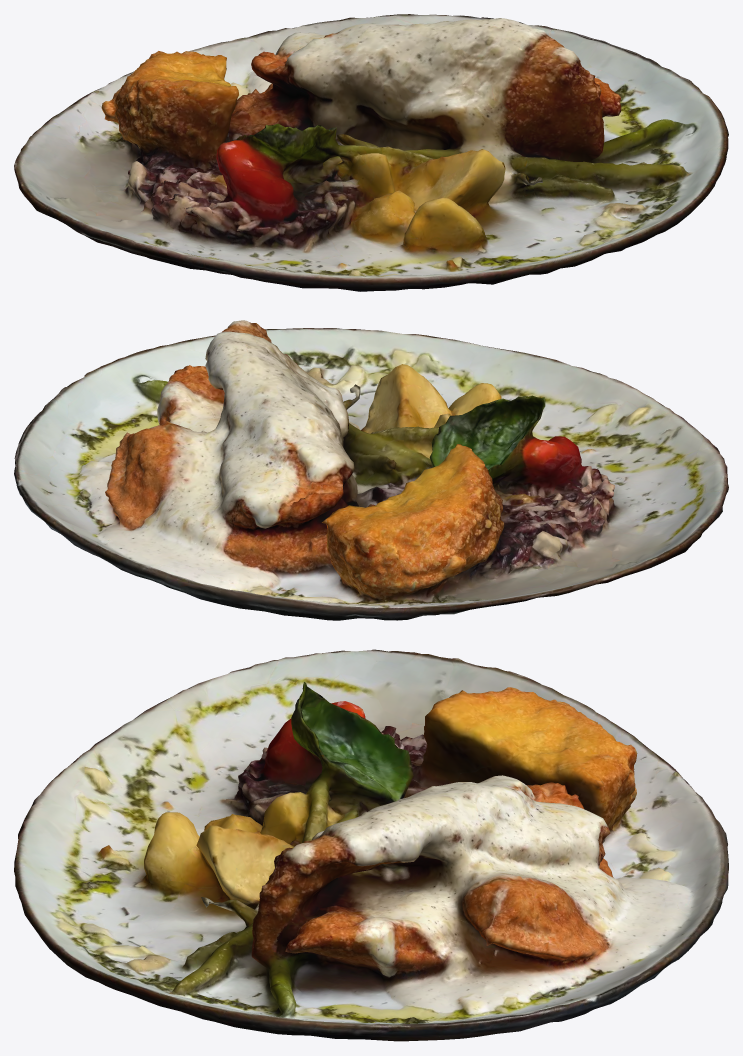
Rendered from AR-Code-1761838630115.compressed.glb.
3 views of the same model, one above another, from view 1: azimuth 30°, elevation 25°; view 2: azimuth 150°, elevation 25°; view 3: azimuth 270°, elevation 25° (orthographic). The views are drawn at different scales.
Visible parts, largest first — view 1: Mesh; view 2: Mesh; view 3: Mesh.
Part boxes in pixels (left/top/right/bottom): Mesh: left=14, top=14, right=728, bottom=291; Mesh: left=14, top=320, right=728, bottom=620; Mesh: left=14, top=649, right=728, bottom=1041.
Bounding box in the file's own units: 0.2683 × 0.0583 × 0.2286.
1 material, 1 textured.
